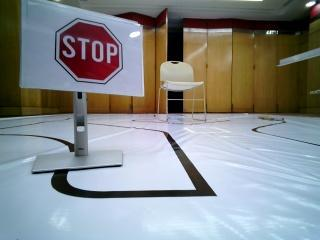stop: (22, 4, 140, 97)
